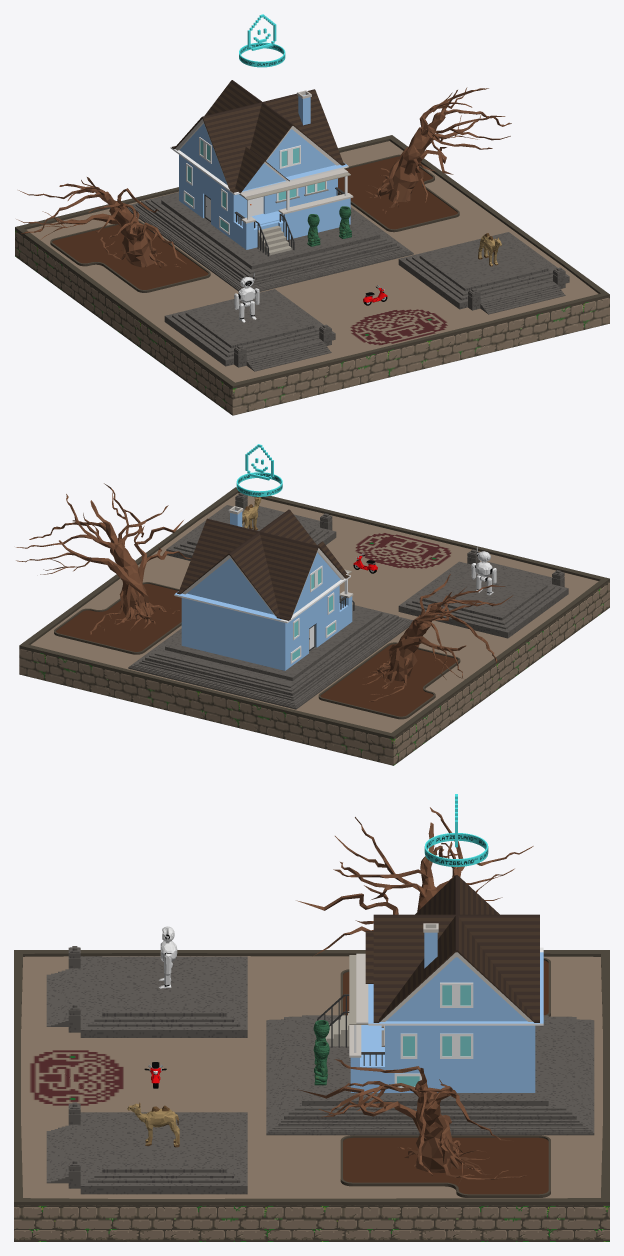
3 views of the same model, one above another, from view 1: azimuth 30°, elevation 25°; view 2: azimuth 150°, elevation 25°; view 3: azimuth 270°, elevation 25° (orthographic). The views are drawn at different scales.
Visible parts, largest first — view 1: Cube.011, Cube.1594, TYPE_PREMIUM, OBJRANDOM_PLATZEEBOT; view 2: Cube.011, Cube.1594, TYPE_PREMIUM, OBJRANDOM_PLATZEEBOT; view 3: Cube.011, Cube.1594, TYPE_PREMIUM, ANIMAL_CAMELLO, OBJRANDOM_PLATZEEBOT.
Boxes of the visible parts, bbox=[...] form: Cube.011: bbox=[15, 87, 609, 415]; Cube.1594: bbox=[170, 80, 353, 256]; TYPE_PREMIUM: bbox=[239, 14, 285, 67]; OBJRANDOM_PLATZEEBOT: bbox=[234, 272, 259, 322]; Cube.011: bbox=[16, 483, 609, 765]; Cube.1594: bbox=[174, 506, 354, 670]; TYPE_PREMIUM: bbox=[236, 444, 282, 496]; OBJRANDOM_PLATZEEBOT: bbox=[471, 547, 496, 595]; Cube.011: bbox=[14, 807, 609, 1241]; Cube.1594: bbox=[317, 875, 543, 1092]; TYPE_PREMIUM: bbox=[424, 794, 488, 866]; ANIMAL_CAMELLO: bbox=[127, 1102, 179, 1147]; OBJRANDOM_PLATZEEBOT: bbox=[159, 926, 177, 988].
Bounding box in the file's own units: 5099 × 2466 × 4000.
37 materials, 6 textured.
